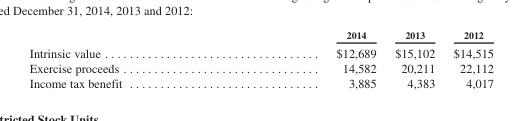table: (28, 28, 492, 89)
table column: (28, 28, 228, 89), (228, 28, 384, 89), (384, 28, 443, 89), (443, 28, 492, 89)
table column header: (28, 28, 492, 43)
table row: (28, 43, 492, 60), (28, 28, 492, 43), (28, 60, 492, 75), (28, 75, 492, 89)
